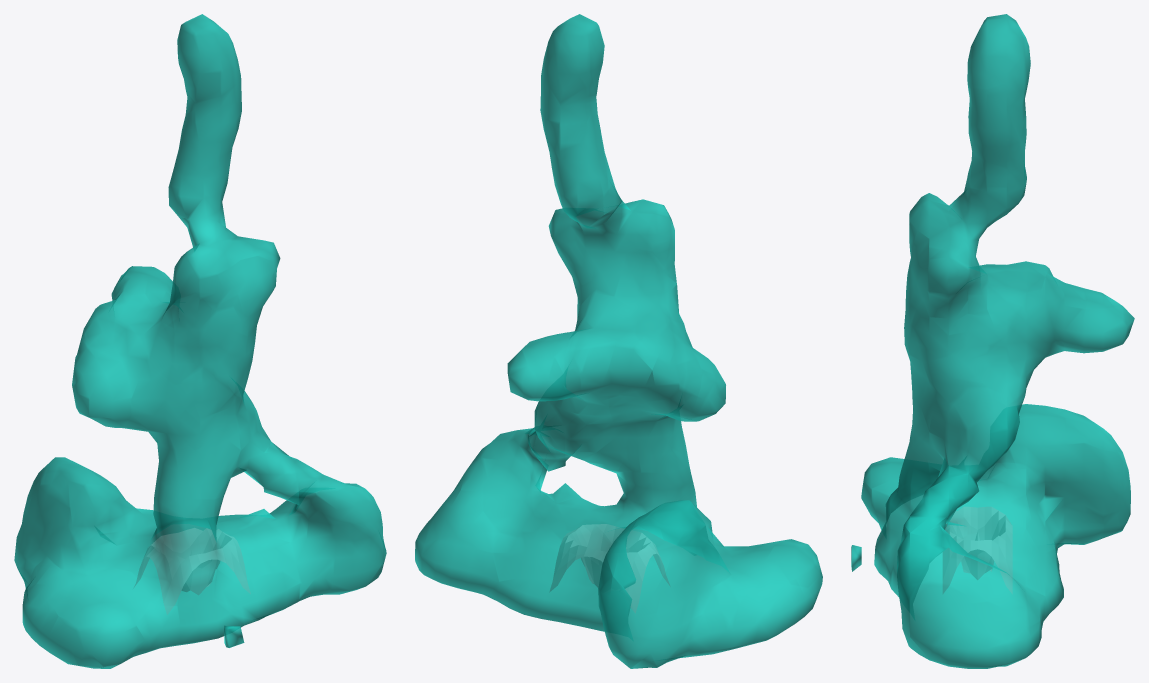
3 renders of one model, left to right at view 1: azimuth 30°, elevation 25°; view 2: azimuth 150°, elevation 25°; view 3: azimuth 270°, elevation 25°, orthographic. The views are drawn at different scales.
Parts seen in each view (by area): view 1: Liquid_Domain, グリッド; view 2: Liquid_Domain, グリッド; view 3: Liquid_Domain, グリッド.
Part boxes in pixels (x1=…): Liquid_Domain: x1=14, y1=14, x2=386, y2=668; グリッド: x1=134, y1=528, x2=250, y2=614; Liquid_Domain: x1=415, y1=14, x2=822, y2=668; グリッド: x1=550, y1=524, x2=669, y2=612; Liquid_Domain: x1=851, y1=14, x2=1134, y2=668; グリッド: x1=943, y1=507, x2=1012, y2=593.
Bounding box in the file's own units: 1.74 × 2.77 × 1.21.
